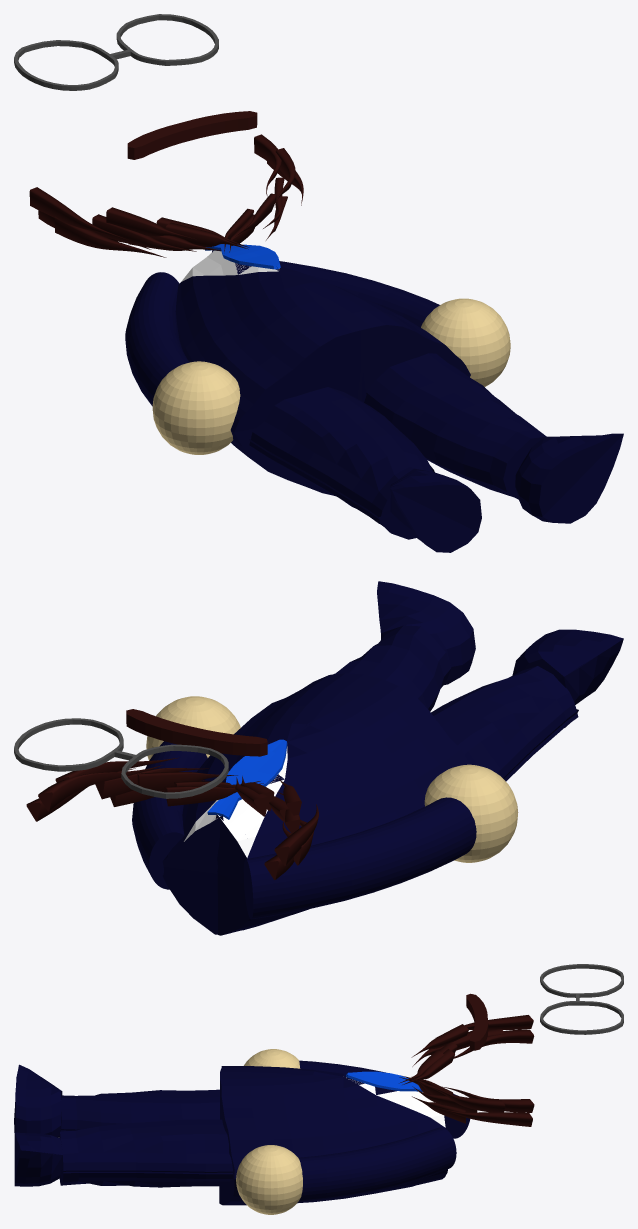
File: NewCharacter_suits.fbx
3 renders of one model, top to bottom at view 1: azimuth 30°, elevation 25°; view 2: azimuth 150°, elevation 25°; view 3: azimuth 270°, elevation 25°, orthographic. The views are drawn at different scales.
Visible parts, largest first — view 1: doutai_5, doutai_6, doutai_7, BezierCurve.012, doutai_9, doutai_2, doutai_8, doutai_1, doutai_4, Plane.003, doutai_3, Plane (+1 smaller); view 2: doutai_5, doutai_1, doutai_6, BezierCurve.012, doutai_2, doutai_7, doutai_9, doutai_8, doutai_3, Plane.003, Plane, doutai_4 (+1 smaller); view 3: doutai_5, doutai_7, doutai_3, BezierCurve.012, doutai_6, doutai_4, doutai_8, doutai_9, Plane.003, Plane.002, doutai_1, Plane (+1 smaller).
Boxes of the visible parts, x1,y1,x2,y2 form: doutai_5: (175,250,470,495); doutai_6: (248,387,434,539); doutai_7: (364,353,546,499); BezierCurve.012: (29,134,303,257); doutai_9: (515,433,623,523); doutai_2: (152,361,240,454); doutai_8: (390,468,481,552); doutai_1: (125,272,189,406); doutai_4: (421,298,510,386); Plane.003: (14,14,218,90); doutai_3: (279,261,439,327); Plane: (127,111,257,159); doutai_5: (162,673,469,935); doutai_1: (243,797,476,919); doutai_6: (431,666,578,781); BezierCurve.012: (26,757,318,879); doutai_2: (424,764,518,862); doutai_7: (333,625,451,711); doutai_9: (377,581,475,684); doutai_8: (512,629,623,704); doutai_3: (132,741,207,889); Plane.003: (14,718,228,798); Plane: (126,709,267,756); doutai_4: (146,696,240,760); doutai_5: (219,1066,447,1205); doutai_7: (59,1119,232,1187); doutai_3: (298,1127,456,1201); BezierCurve.012: (399,1015,534,1126); doutai_6: (61,1089,219,1131); doutai_4: (236,1145,302,1214); doutai_8: (14,1064,62,1137); doutai_9: (14,1132,62,1186); Plane.003: (540,964,623,1034); Plane.002: (346,1071,422,1091); doutai_1: (299,1060,470,1138); Plane: (466,993,488,1050).
Size of the model in its own units: 212 by 161 by 435.
